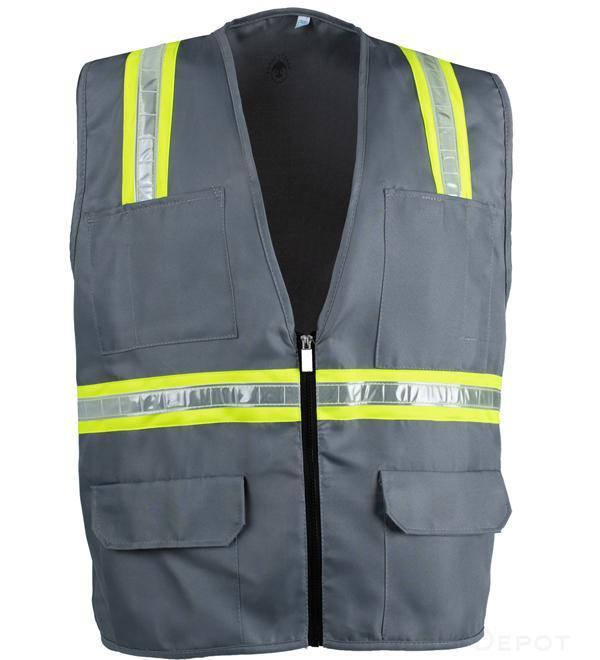vest: (71, 12, 513, 651)
